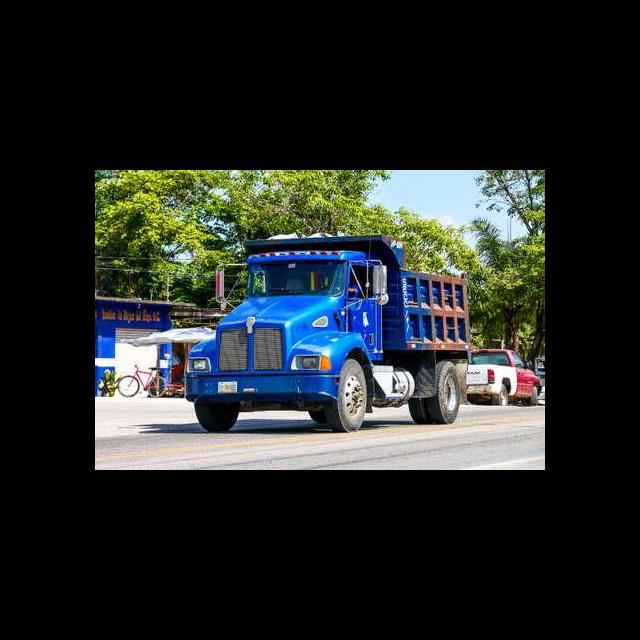Excavator: (466, 347, 542, 408)
dump truck: (181, 236, 469, 431)
